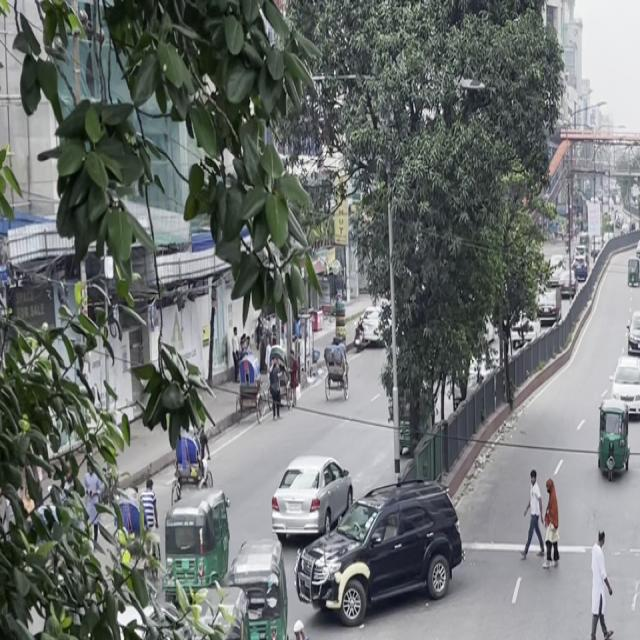bicycle: (256, 624, 336, 640)
car: (292, 472, 469, 632), (612, 354, 640, 425), (624, 307, 640, 363)
rickshaw: (154, 488, 238, 599), (226, 540, 292, 640), (593, 397, 633, 487)
